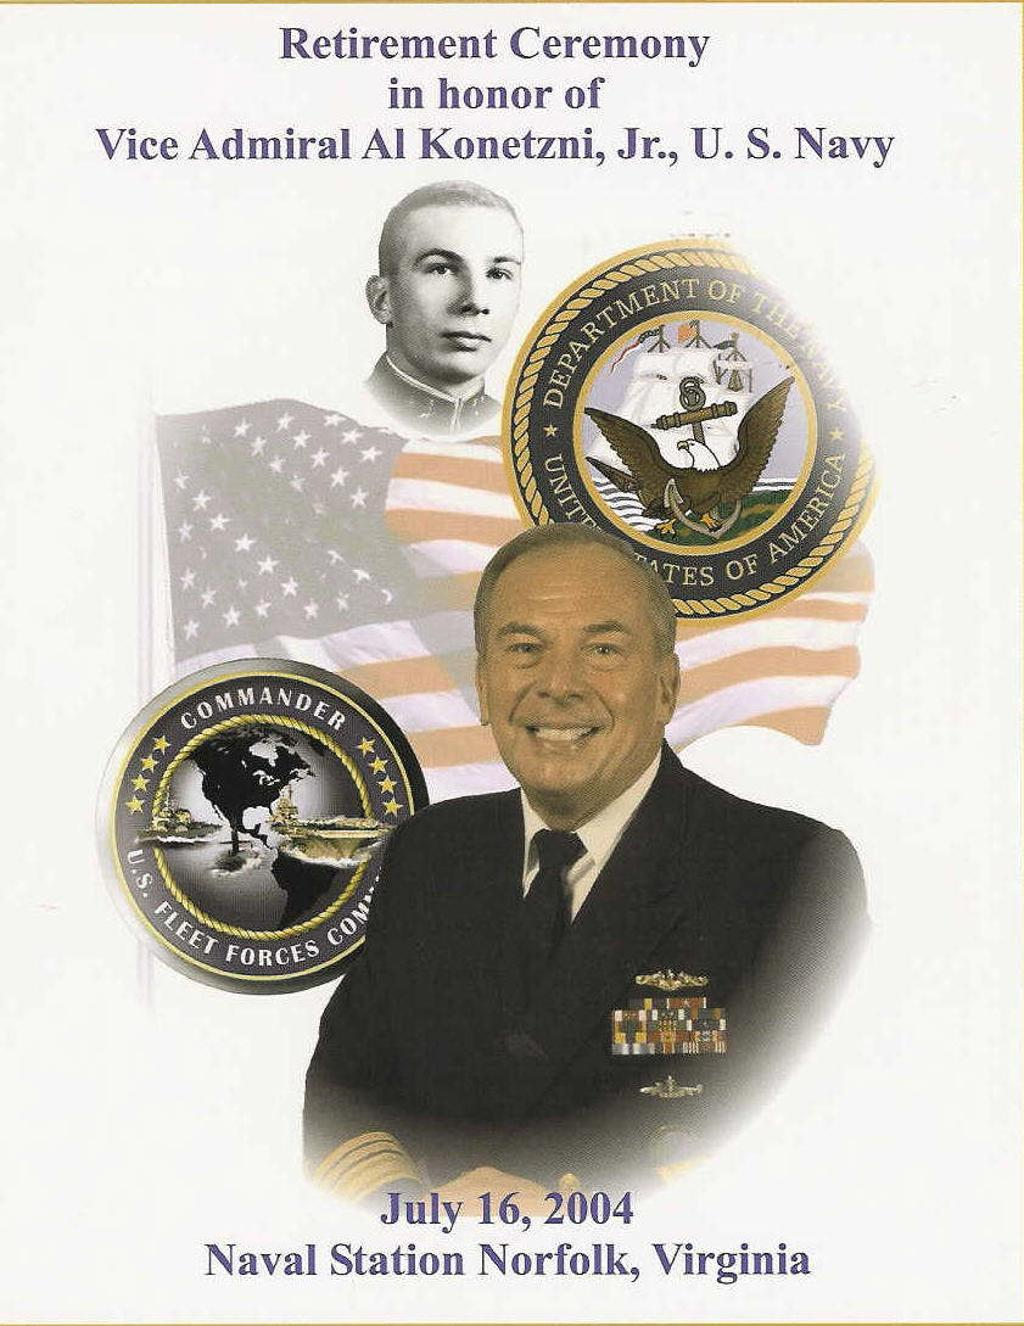face: (487, 547, 658, 786), (399, 202, 526, 371)
